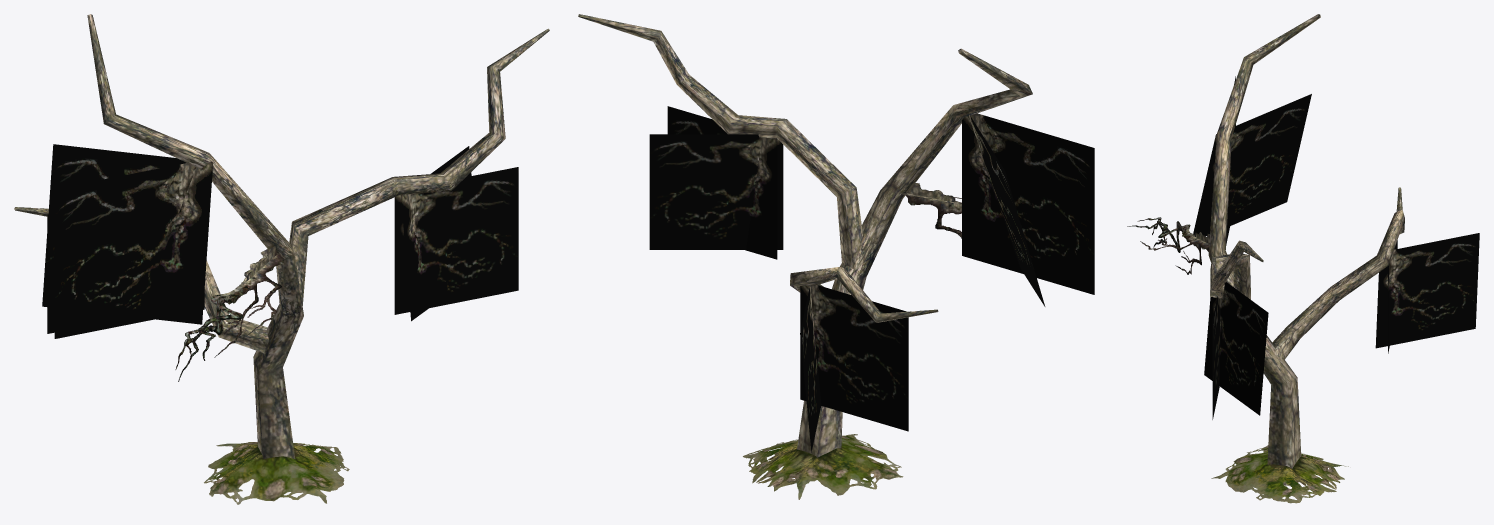
Rendered from INST_OH_SM_TREE_01.fbx.
3 views of the same model, side by side, from view 1: azimuth 30°, elevation 25°; view 2: azimuth 150°, elevation 25°; view 3: azimuth 270°, elevation 25° (orthographic). The views are drawn at different scales.
Visible parts, largest first — view 1: INST_OH_SM_TREE_01; view 2: INST_OH_SM_TREE_01; view 3: INST_OH_SM_TREE_01.
Part boxes in pixels (x1,y1,x2,y2): INST_OH_SM_TREE_01: (14,14,549,504); INST_OH_SM_TREE_01: (578,14,1094,499); INST_OH_SM_TREE_01: (1127,14,1479,503).
Bounding box in the file's own units: 15969 × 14513 × 11772.
4 materials, 4 textured.
